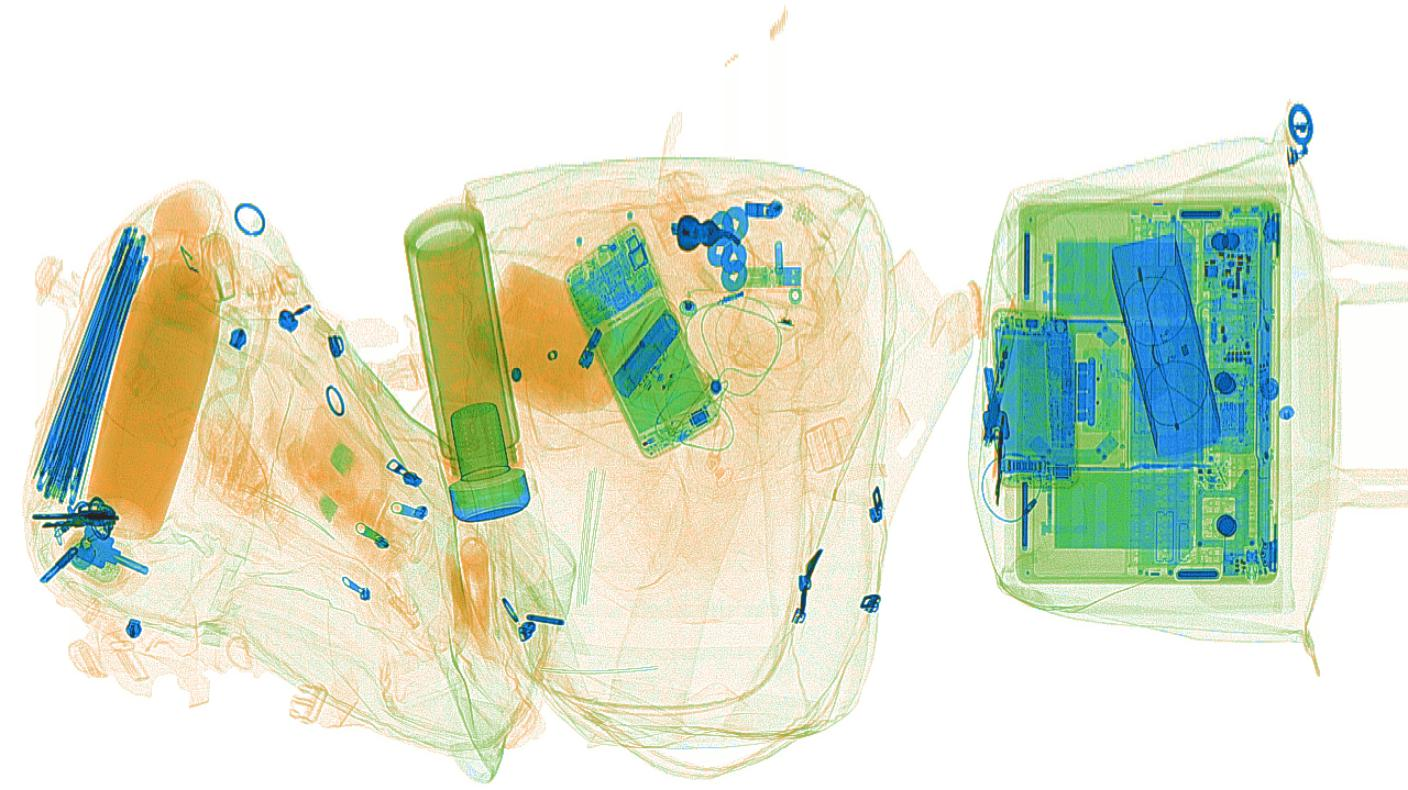USBFlashDisk: (733, 263, 803, 295)
battery: (610, 311, 683, 398)
